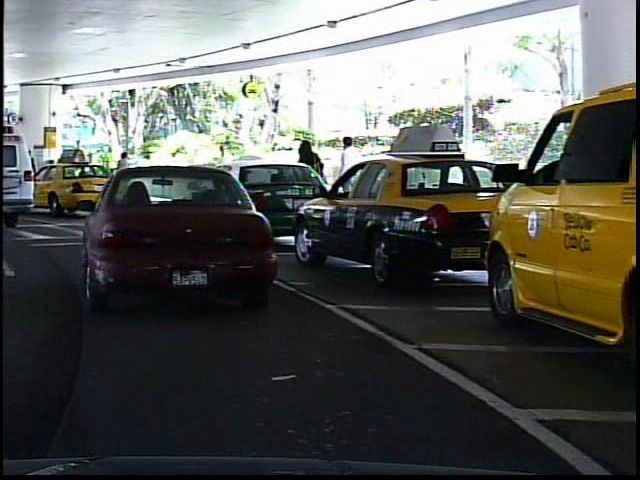person: (290, 135, 325, 229), (332, 130, 364, 223), (209, 139, 237, 204), (108, 147, 134, 198)
